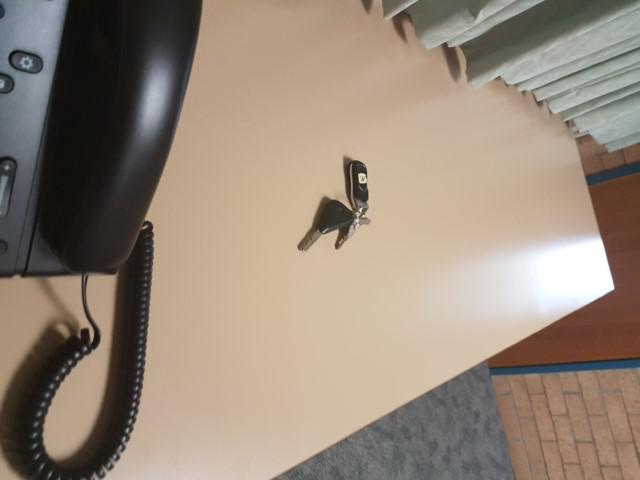key: (300, 199, 353, 251)
